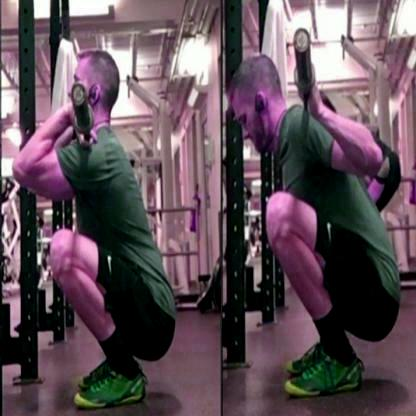Barbell: (290, 24, 310, 57), (68, 82, 86, 109)
